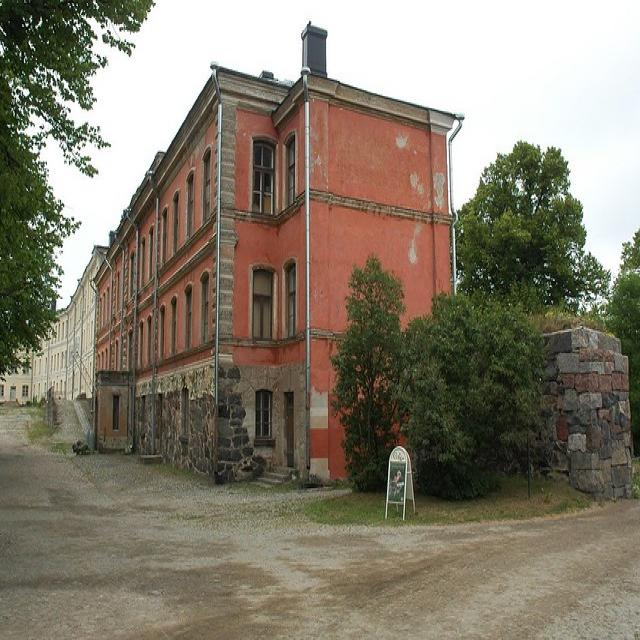Normal_building: (94, 19, 464, 492)
